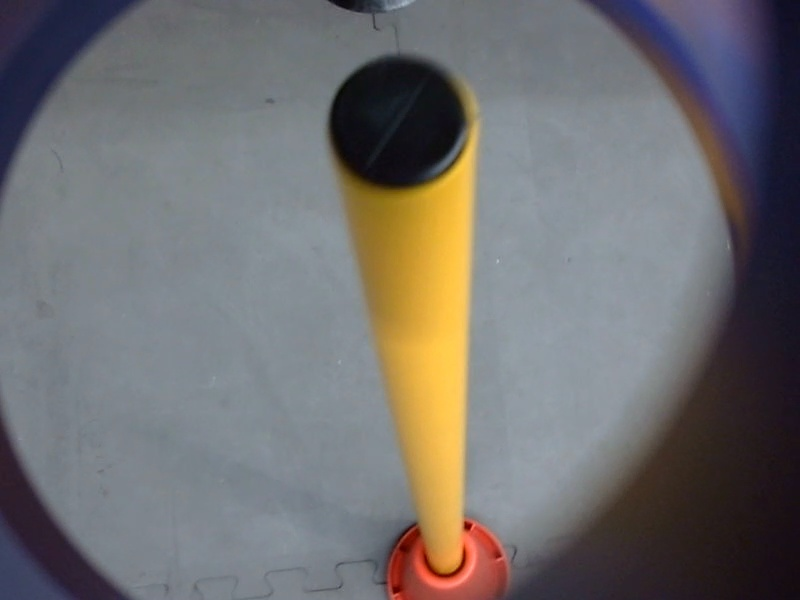tip: (312, 45, 488, 208)
